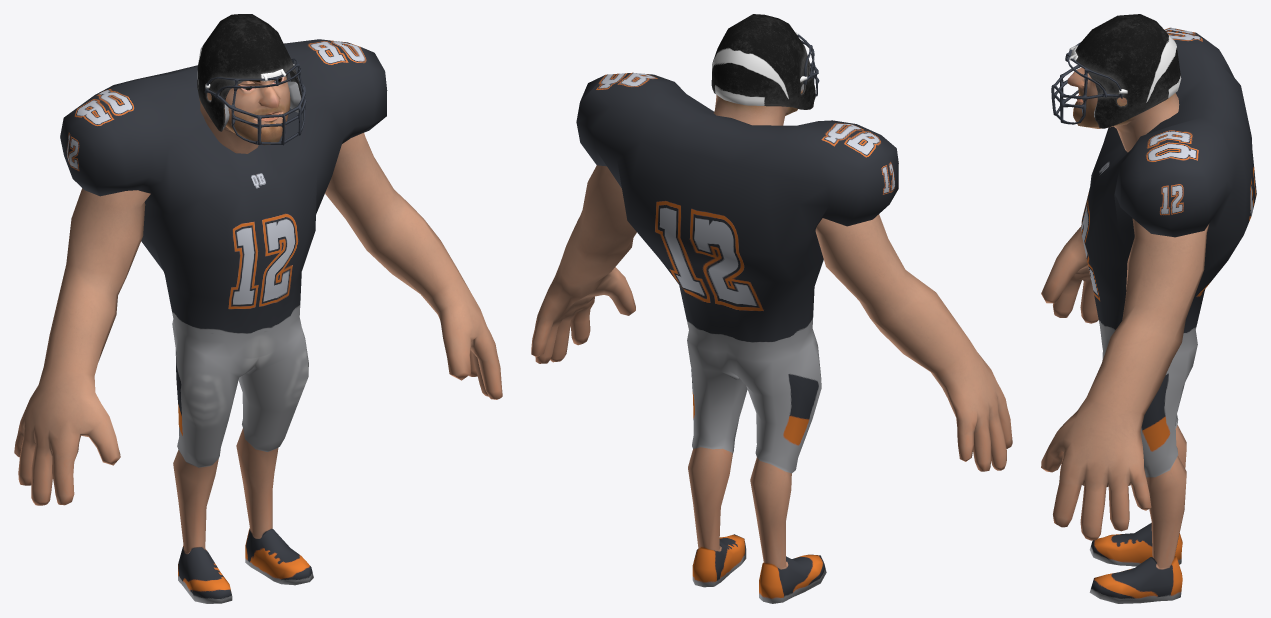
File: american_football_player_cartoon.glb
The picture shows the model from 3 angles, left to right: view 1: azimuth 30°, elevation 25°; view 2: azimuth 150°, elevation 25°; view 3: azimuth 270°, elevation 25°; orthographic projection.
Visible parts, largest first — view 1: Object_3, Object_4, Object_2; view 2: Object_3, Object_4, Object_2; view 3: Object_3, Object_4, Object_2.
Part boxes in pixels (bbox=[...]): Object_3: bbox=[60, 14, 387, 603]; Object_4: bbox=[14, 77, 502, 505]; Object_2: bbox=[199, 76, 290, 153]; Object_3: bbox=[576, 14, 898, 603]; Object_4: bbox=[531, 165, 1012, 471]; Object_2: bbox=[713, 89, 802, 125]; Object_3: bbox=[1051, 14, 1256, 603]; Object_4: bbox=[1041, 218, 1208, 540]; Object_2: bbox=[1067, 67, 1179, 152].
Bounding box in the file's own units: 43.08 × 50.7 × 17.58.
Materials: 2 (2 with a texture image).
